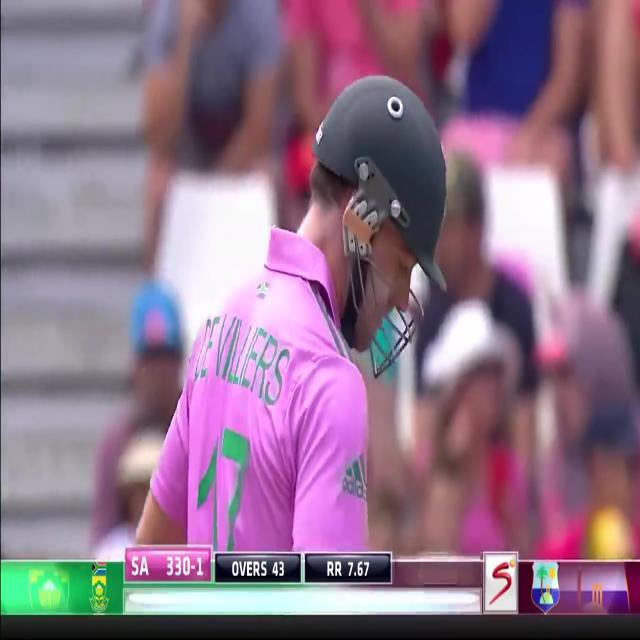Ball: (144, 64, 454, 551)
